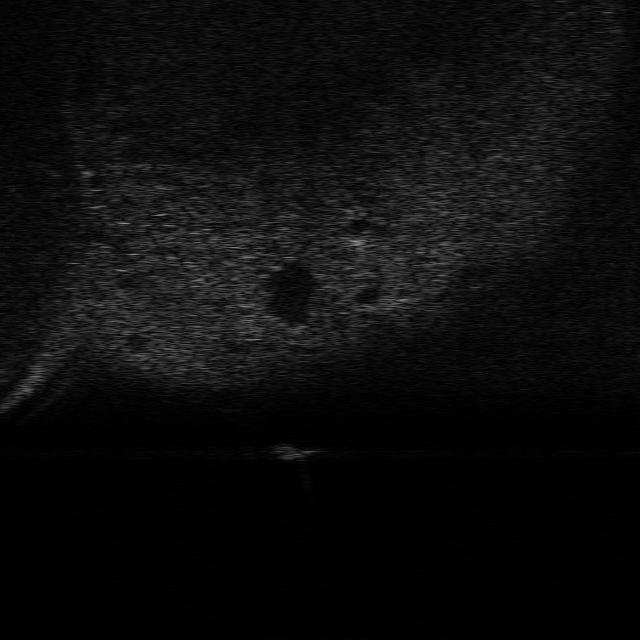cube: (265, 441, 323, 462)
